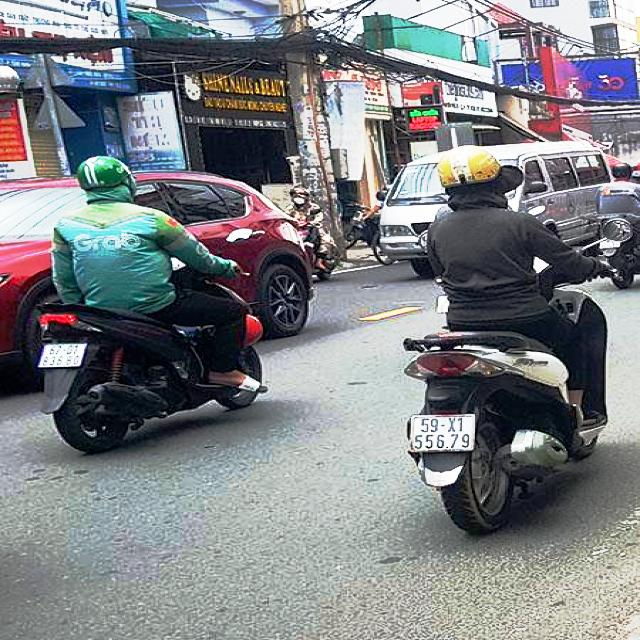license_plate: (412, 416, 473, 452), (39, 343, 87, 369)
